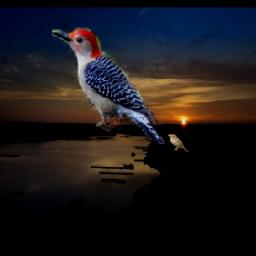Sparrow: (167, 134, 189, 153)
Woodpecker: (51, 28, 164, 145)
